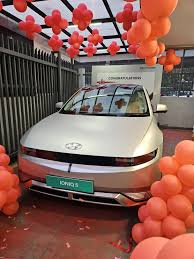Honda Ioniq: (16, 82, 172, 215)
